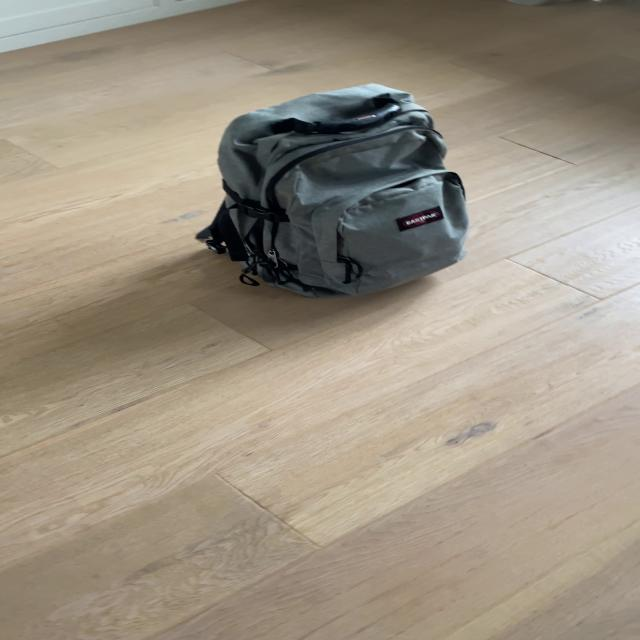backpack: (193, 74, 482, 304)
